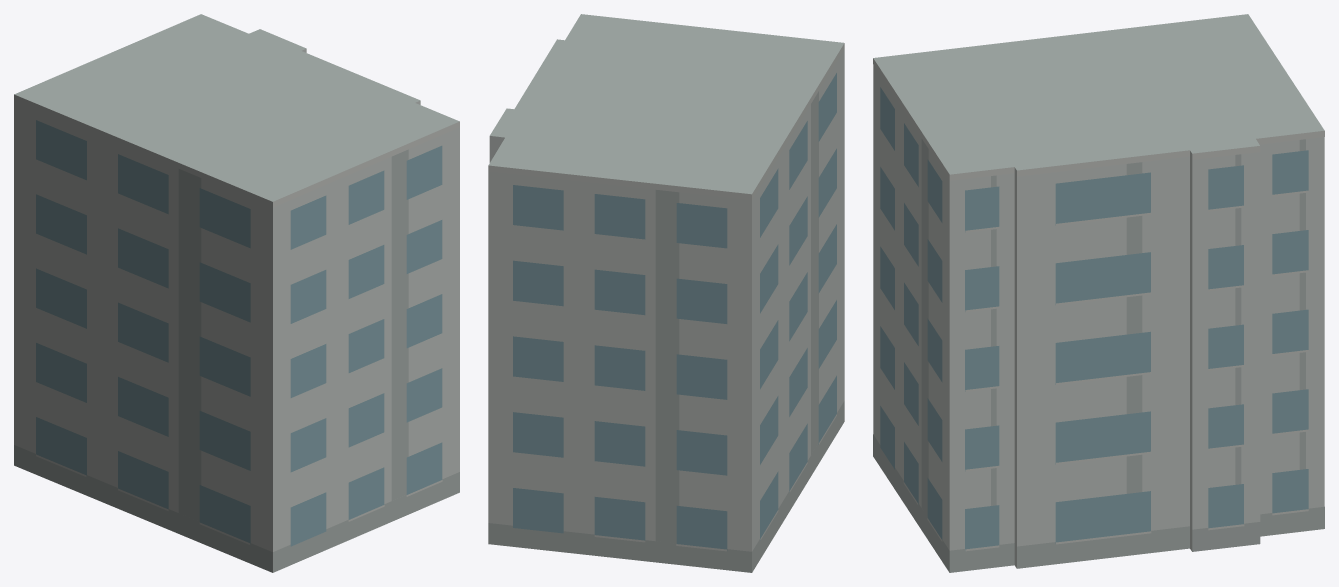
The model's file is survey-upis-32700322.glb.
The picture shows the model from 3 angles, left to right: view 1: azimuth 30°, elevation 25°; view 2: azimuth 150°, elevation 25°; view 3: azimuth 270°, elevation 25°; orthographic projection. The views are drawn at different scales.
Parts seen in each view (by area): view 1: survey-upis-32700322.tmp; view 2: survey-upis-32700322.tmp; view 3: survey-upis-32700322.tmp.
Boxes of the visible parts, left/top/right/bottom form: survey-upis-32700322.tmp: left=14, top=14, right=459, bottom=572; survey-upis-32700322.tmp: left=488, top=14, right=844, bottom=572; survey-upis-32700322.tmp: left=873, top=14, right=1324, bottom=572.
Size of the model in its own units: 13.33 by 15.4 by 15.84.
